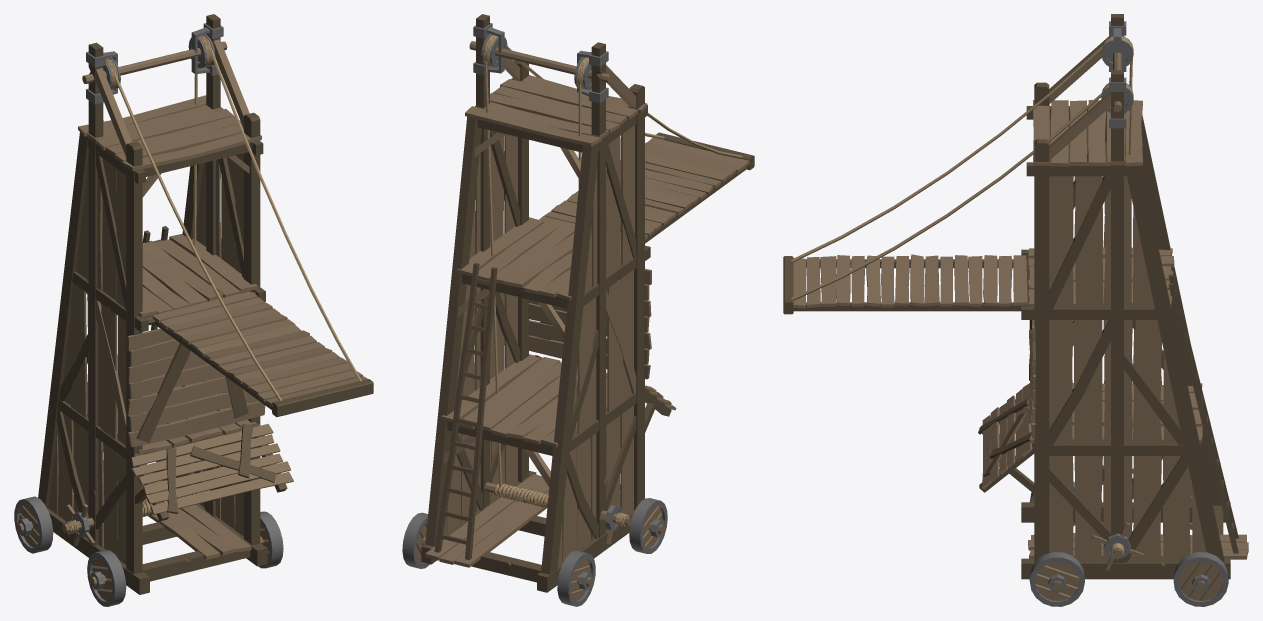
File: siege_siege_tower.FBX
3 views of the same model, side by side, from view 1: azimuth 30°, elevation 25°; view 2: azimuth 150°, elevation 25°; view 3: azimuth 270°, elevation 25° (orthographic).
Parts seen in each view (by area): view 1: siege_siege_tower; view 2: siege_siege_tower; view 3: siege_siege_tower.
Boxes of the visible parts, <box> form: siege_siege_tower: <box>14,14,373,606</box>; siege_siege_tower: <box>402,14,754,606</box>; siege_siege_tower: <box>783,14,1248,606</box>.
Size of the model in its own units: 6.34 by 17.25 by 13.93.
